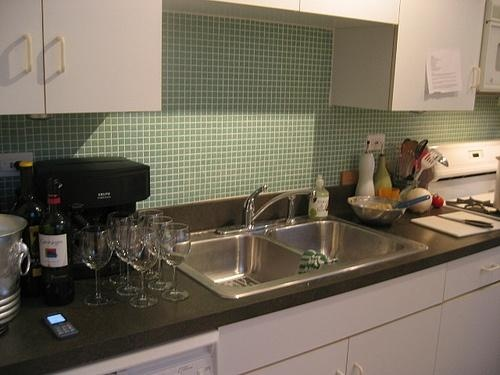bottle: (8, 160, 43, 293), (40, 178, 75, 304), (309, 174, 330, 220)
